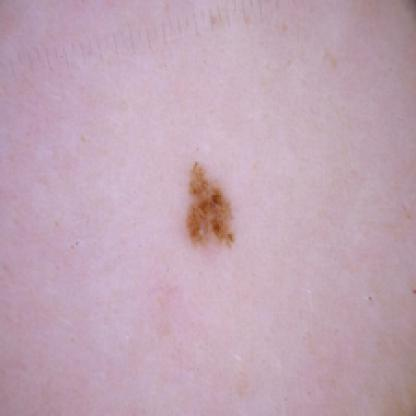benign: (175, 158, 247, 252)
